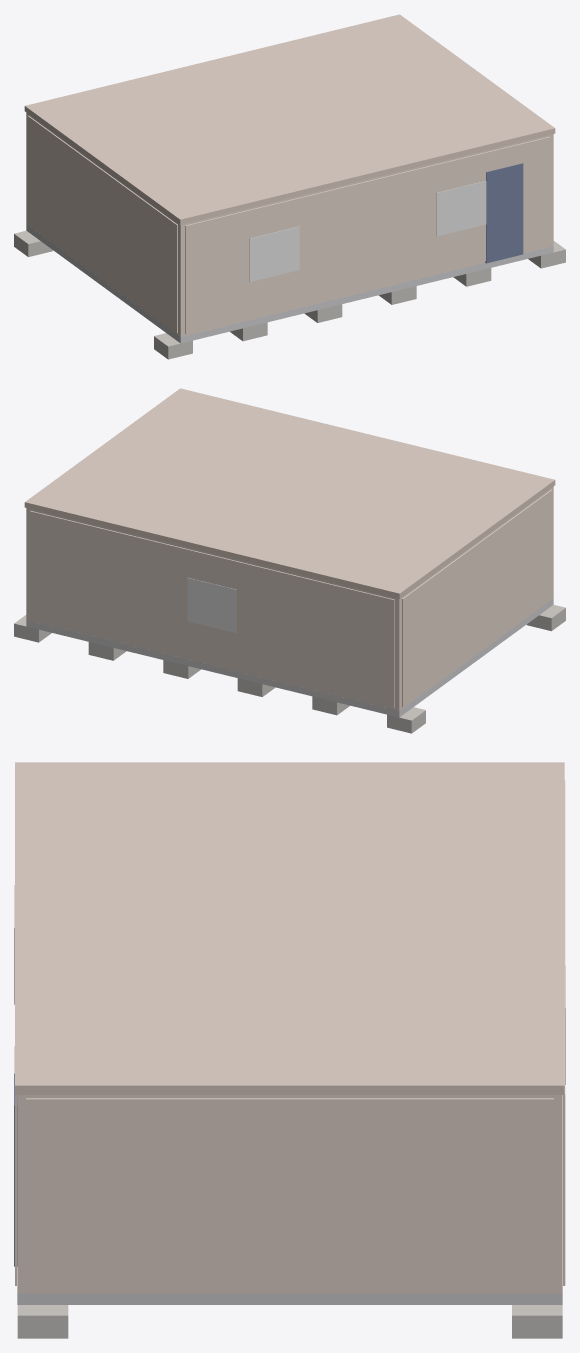
Rendered from Studio-30-Base-Mauve-LOD3.glb.
3 renders of one model, top to bottom at view 1: azimuth 30°, elevation 25°; view 2: azimuth 150°, elevation 25°; view 3: azimuth 270°, elevation 25°, orthographic. The views are drawn at different scales.
Visible parts, largest first — view 1: RoofMain, ExteriorPanelsStandard, WindowsStandard, BaseFrame, FoundationBlocks, ExteriorShell, EntryDoor; view 2: RoofMain, ExteriorPanelsStandard, BaseFrame, ExteriorShell, FoundationBlocks, WindowsStandard; view 3: RoofMain, ExteriorPanelsStandard, ExteriorShell, BaseFrame, FoundationBlocks.
Part boxes in pixels (x1,y1,x2,y2): RoofMain: (24,14,555,224); ExteriorPanelsStandard: (27,115,549,334); WindowsStandard: (249,181,486,281); BaseFrame: (26,224,553,343); FoundationBlocks: (14,230,565,359); ExteriorShell: (26,112,553,336); EntryDoor: (485,163,523,263); RoofMain: (24,388,555,598); ExteriorPanelsStandard: (30,489,552,708); BaseFrame: (26,598,553,717); ExteriorShell: (26,486,553,710); FoundationBlocks: (14,604,565,733); WindowsStandard: (187,577,236,633); RoofMain: (15,762,564,1094); ExteriorPanelsStandard: (15,780,565,1290); ExteriorShell: (17,1095,562,1293); BaseFrame: (17,1293,562,1304); FoundationBlocks: (17,1305,562,1338).
Size of the model in its own units: 9.6 by 3.17 by 6.53.
